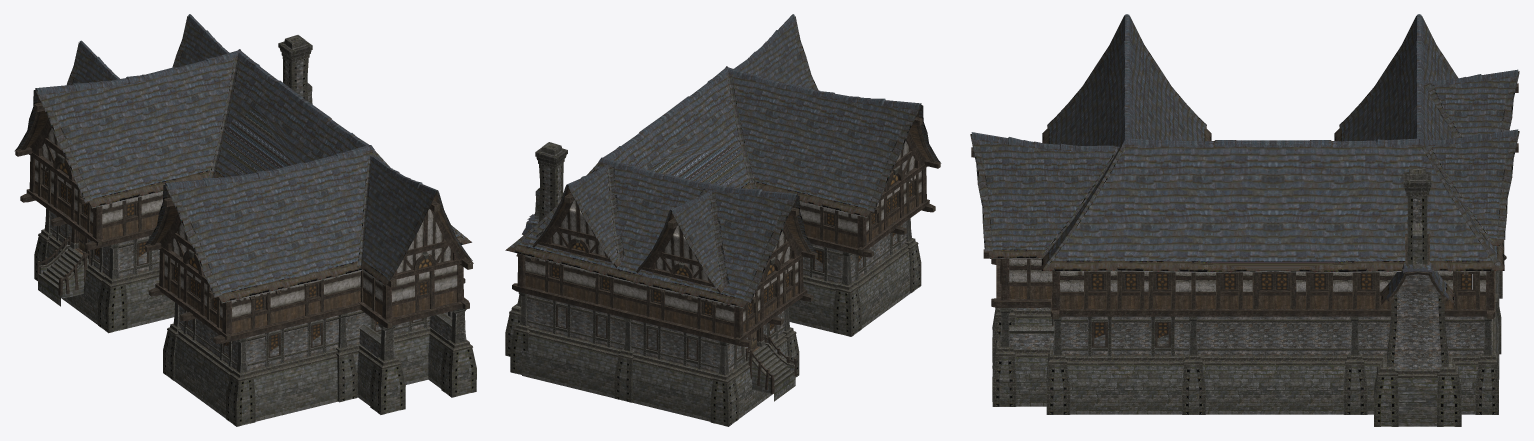
Rendered from eso_gu2_LargeHouse1-transformed.glb.
3 views of the same model, side by side, from view 1: azimuth 30°, elevation 25°; view 2: azimuth 150°, elevation 25°; view 3: azimuth 270°, elevation 25° (orthographic). The views are drawn at different scales.
Parts seen in each view (by area): view 1: default; view 2: default; view 3: default.
Part boxes in pixels (left/top/right/bottom): default: left=14, top=14, right=476, bottom=426; default: left=505, top=14, right=941, bottom=426; default: left=970, top=14, right=1519, bottom=426.
Size of the model in its own units: 38.36 by 28.76 by 56.03.
Materials: 9 (9 with a texture image).
